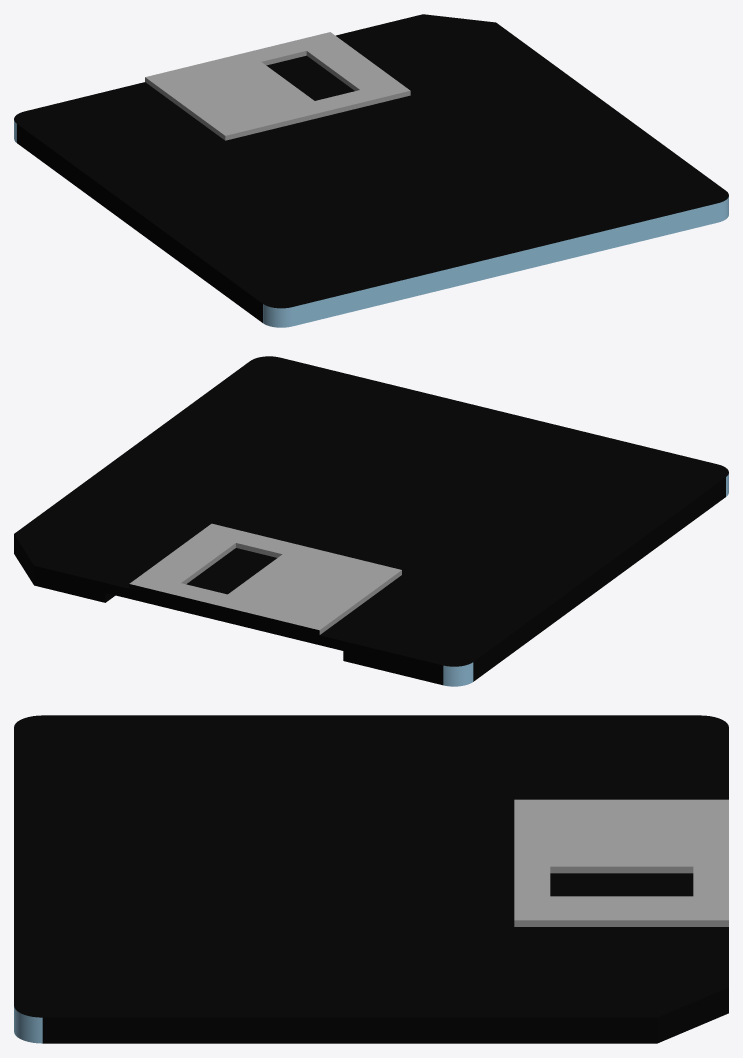
The model's file is FloppyDisk.dae.
3 renders of one model, top to bottom at view 1: azimuth 30°, elevation 25°; view 2: azimuth 150°, elevation 25°; view 3: azimuth 270°, elevation 25°, orthographic. The views are drawn at different scales.
Parts seen in each view (by area): view 1: ID2; view 2: ID2; view 3: ID2.
Part boxes in pixels (<box>): ID2: <box>14,14,728,327</box>; ID2: <box>14,356,728,686</box>; ID2: <box>14,715,728,1043</box>.
Size of the model in its own units: 0.127 by 0.127 by 0.00635.
